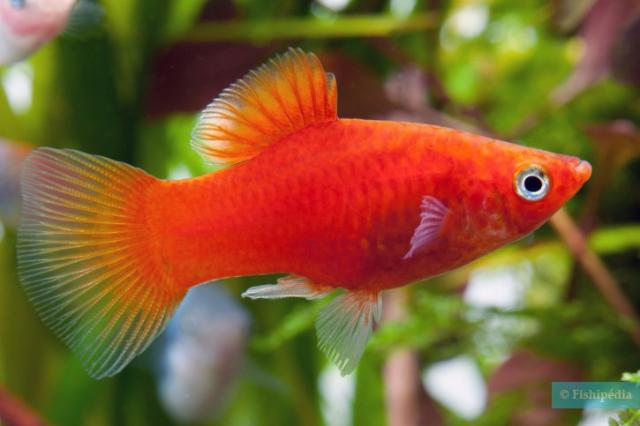Mulut: (549, 125, 611, 214)
Sirip Anal: (13, 130, 190, 388), (232, 266, 338, 314)
Sirip Dada: (390, 187, 476, 267)
Sirip Perut: (306, 281, 394, 379)
Sirip Punggung: (188, 34, 344, 176)
